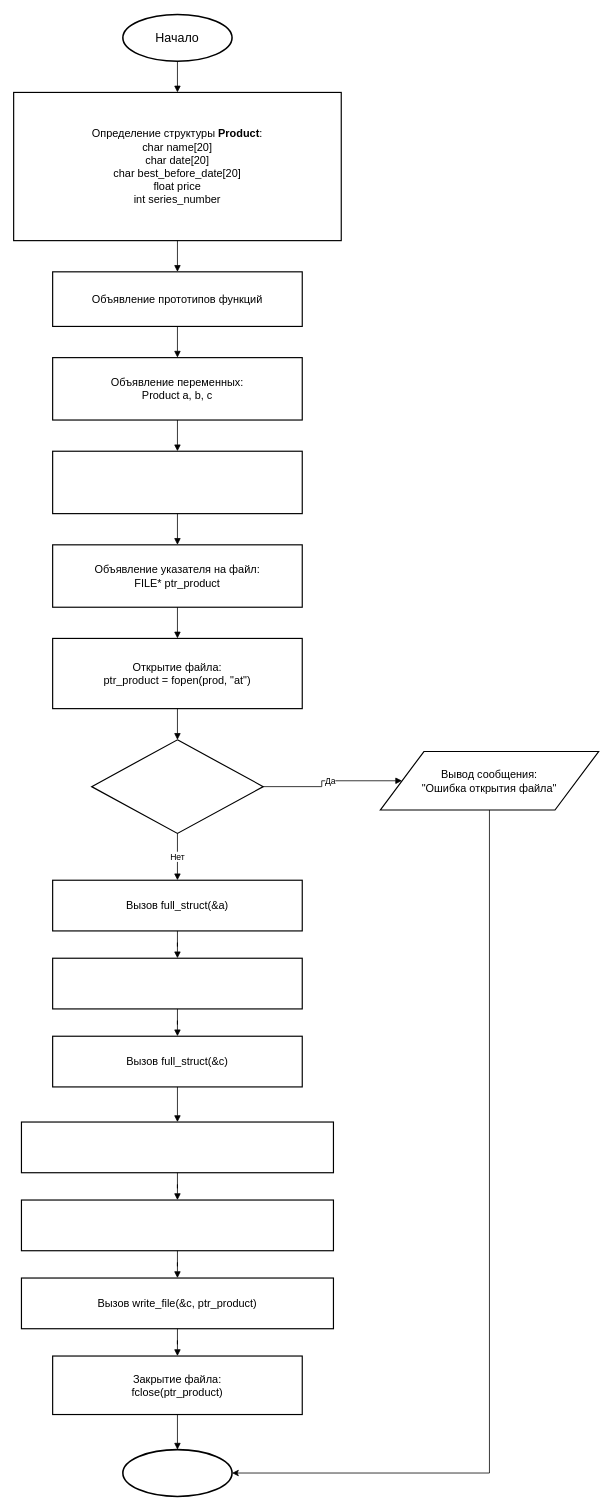
The diagram is 613 pixels wide and 1510 high, and some of its shapes have lost their labels. The shapes that lost their labels are listed below. From the top down, each one's centre as x and y in pixels, then its label:
point (177, 482): Инициализация строки: char prod[20] = "prod.txt"
point (177, 786): ptr_product == NULL?
point (177, 983): Вызов full_struct(&b)
point (177, 1147): Вызов write_file(&a, ptr_product)
point (177, 1225): Вызов write_file(&b, ptr_product)
point (177, 1472): Конец
